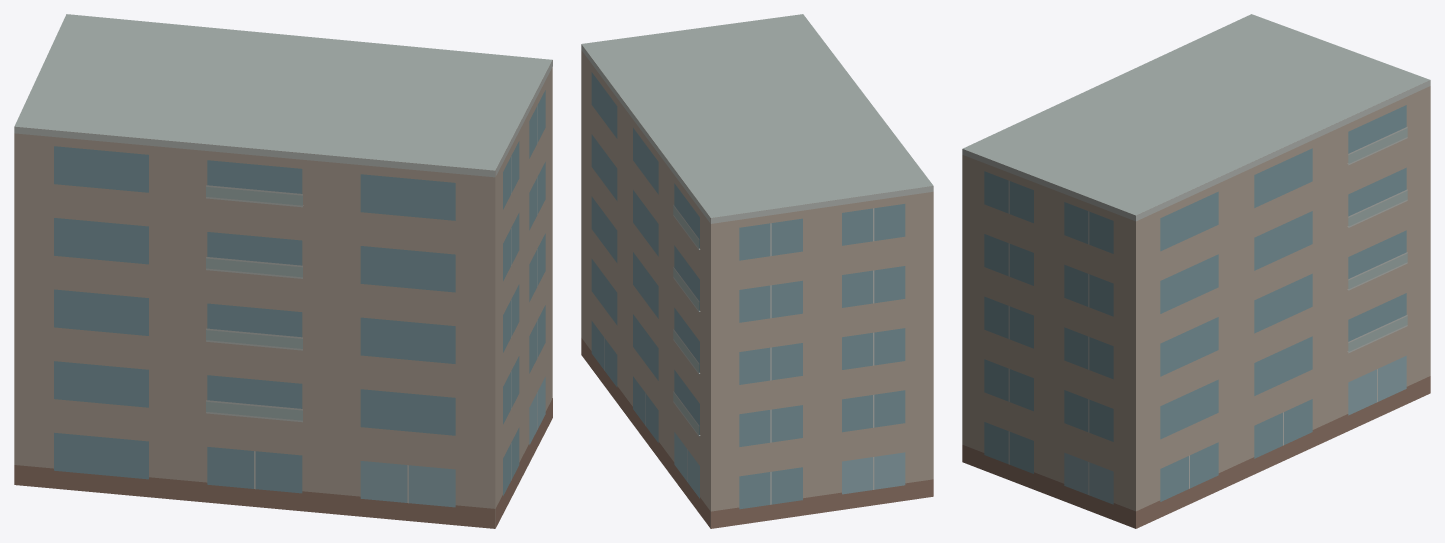
File: survey-upis-32899555.glb
The picture shows the model from 3 angles, left to right: view 1: azimuth 30°, elevation 25°; view 2: azimuth 150°, elevation 25°; view 3: azimuth 270°, elevation 25°; orthographic projection. The views are drawn at different scales.
Parts seen in each view (by area): view 1: survey-upis-32899555.tmp; view 2: survey-upis-32899555.tmp; view 3: survey-upis-32899555.tmp.
Part boxes in pixels (box(x1,y1,x2,y2)): survey-upis-32899555.tmp: box(14, 14, 552, 528); survey-upis-32899555.tmp: box(581, 14, 933, 528); survey-upis-32899555.tmp: box(962, 14, 1430, 528).
Bounding box in the file's own units: 17.87 × 12.95 × 17.55.
